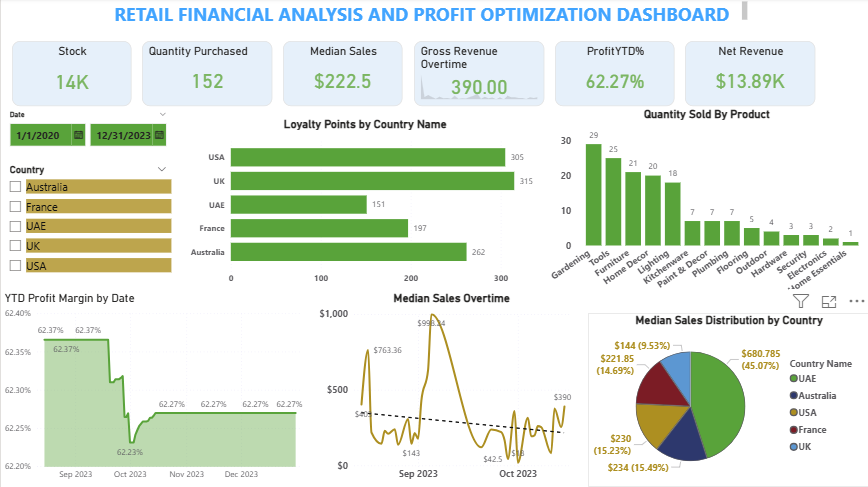

What the dashboard file says about the page in this screenshot:
{"tool":"powerbi","page":{"name":"Tailwind dashboard","canvas":[1280,720],"ordinal":2},"visuals":[{"type":"clusteredBarChart","title":"Loyalty Points by Country Name","fields":{"Category":["Sales in USD.Country Name"],"Y":["Sum(Sales in USD. Loyalty Points)"]},"box":[272,176,528,256],"z":0},{"type":"clusteredColumnChart","title":"Quantity Sold By Product","fields":{"Y":["Sum(Sales in USD.Quantity Purchased)"],"Category":["Sales in USD.Product Category"]},"box":[800,160,480,288],"z":1000},{"type":"pieChart","title":"Median Sales Distribution by Country ","fields":{"Category":["Sales in USD.Country Name"],"Y":["Sales in USD.Median Sales"]},"box":[864,464,416,256],"z":2000},{"type":"card","title":"Stock","fields":{"Values":["Sum(Sales in USD. Stock  )"]},"box":[16,64,176,96],"z":3000},{"type":"card","title":"Quantity Purchased","fields":{"Values":["Sum(Sales in USD.Quantity Purchased)"]},"box":[208,64,192,96],"z":4000},{"type":"card","title":"Median Sales","fields":{"Values":["Sales in USD.Median Sales"]},"box":[416,64,176,96],"z":5000},{"type":"card","title":"ProfitYTD%","fields":{"Values":["Sales in USD.Profit YTD%"]},"box":[816,64,176,96],"z":6000},{"type":"card","title":"Net Revenue","fields":{"Values":["Sum(Sales in USD.Net Revenue USD)"]},"box":[1008,64,192,96],"z":7000},{"type":"kpi","title":"Gross Revenue Overtime","fields":{"Indicator":["Sum(Sales in USD.Gross Revenue USD)"],"TrendLine":["CalendarTable.Date"]},"box":[608,64,192,96],"z":8000},{"type":"textbox","box":[144,0,960,48],"z":9000},{"type":"slicer","fields":{"Values":["Countries.Country"]},"box":[0,240,256,192],"z":10000},{"type":"slicer","fields":{"Values":["CalendarTable.Date"]},"box":[0,160,256,80],"z":11000},{"type":"areaChart","fields":{"Category":["CalendarTable.Date"],"Y":["Sales in USD.YTD Profit Margin"]},"box":[0,432,464,288],"z":12000},{"type":"lineChart","title":"Median Sales Overtime","fields":{"Y":["Sales in USD.Median Sales"],"Category":["CalendarTable.Date"]},"box":[464,432,400,288],"z":13000}]}

Visuals, with their boxes in screenshot pixels (x1, y1, x2, y2), scaled from the page's 1280x720 canvas onto the 868x487 screenshot:
"Loyalty Points by Country Name" clusteredBarChart: box=[184, 119, 542, 292]
"Quantity Sold By Product" clusteredColumnChart: box=[542, 108, 867, 303]
"Median Sales Distribution by Country " pieChart: box=[586, 314, 867, 486]
"Stock" card: box=[11, 43, 130, 108]
"Quantity Purchased" card: box=[141, 43, 271, 108]
"Median Sales" card: box=[282, 43, 401, 108]
"ProfitYTD%" card: box=[553, 43, 673, 108]
"Net Revenue" card: box=[684, 43, 814, 108]
"Gross Revenue Overtime" kpi: box=[412, 43, 542, 108]
textbox: box=[98, 0, 749, 32]
slicer - Countries.Country: box=[0, 162, 174, 292]
slicer - CalendarTable.Date: box=[0, 108, 174, 162]
areaChart - CalendarTable.Date x Sales in USD.YTD Profit Margin: box=[0, 292, 315, 486]
"Median Sales Overtime" lineChart: box=[315, 292, 586, 486]
